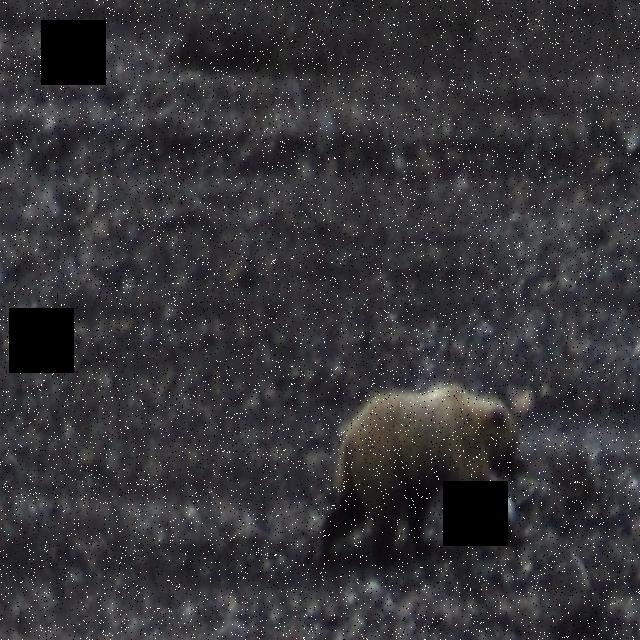Bear: (324, 382, 533, 558)
